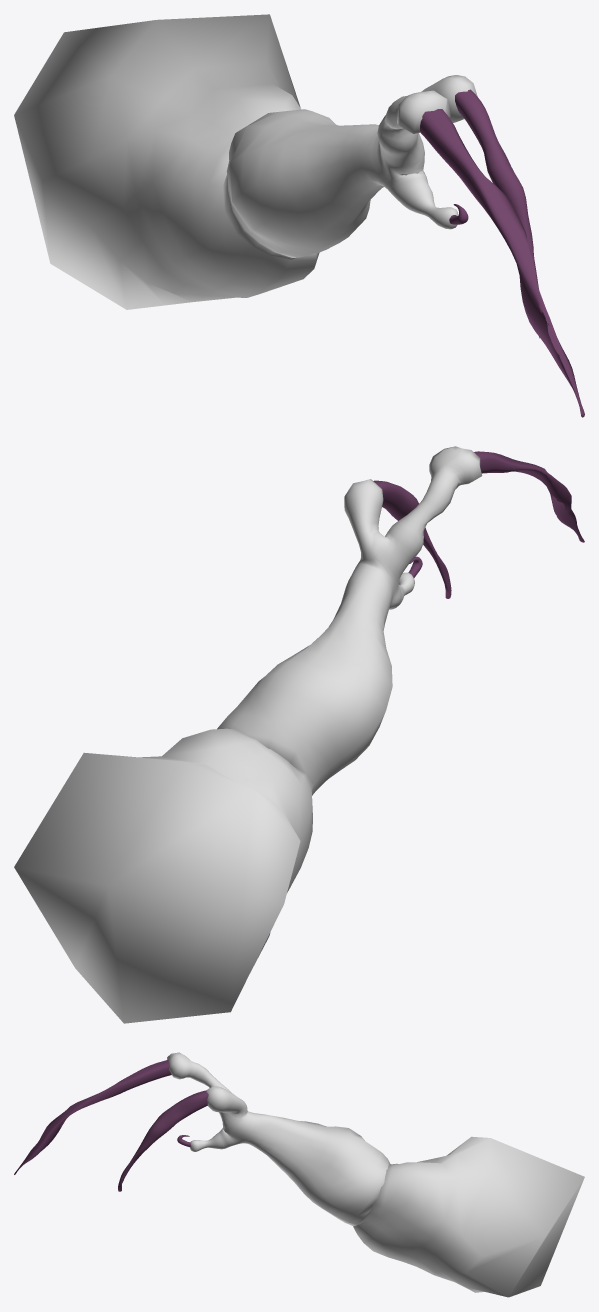
File: claw-left.fbx
3 renders of one model, top to bottom at view 1: azimuth 30°, elevation 25°; view 2: azimuth 150°, elevation 25°; view 3: azimuth 270°, elevation 25°, orthographic. The views are drawn at different scales.
Visible parts, largest first — view 1: kaedim_mesh_0, kaedim_mesh_2, kaedim_mesh_3; view 2: kaedim_mesh_0, kaedim_mesh_2, kaedim_mesh_3; view 3: kaedim_mesh_0, kaedim_mesh_2, kaedim_mesh_3.
Boxes of the visible parts, <box> form: kaedim_mesh_0: <box>14,14,477,309</box>; kaedim_mesh_2: <box>420,109,584,417</box>; kaedim_mesh_3: <box>455,89,539,338</box>; kaedim_mesh_0: <box>14,446,482,1023</box>; kaedim_mesh_2: <box>474,451,584,542</box>; kaedim_mesh_3: <box>373,480,451,598</box>; kaedim_mesh_0: <box>167,1052,584,1297</box>; kaedim_mesh_2: <box>14,1059,171,1174</box>; kaedim_mesh_3: <box>118,1090,208,1191</box>.
Bounding box in the file's own units: 114 × 175 × 397.
